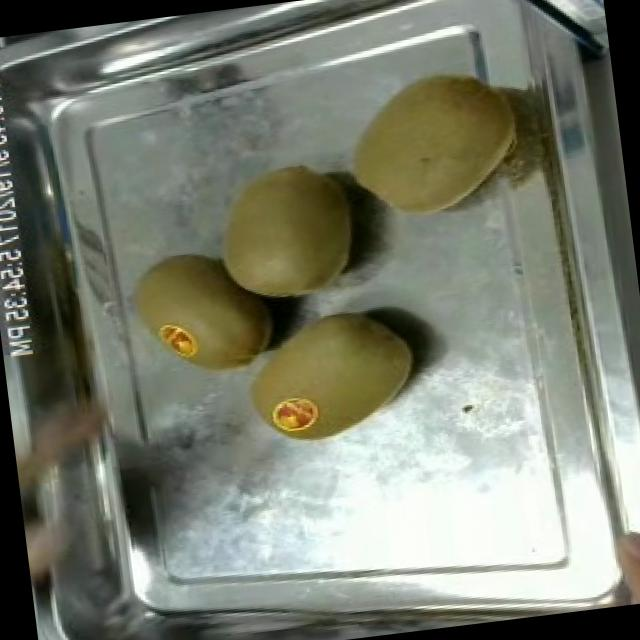Fruit: (328, 54, 536, 236), (238, 294, 430, 453), (198, 146, 370, 314), (119, 236, 287, 394), (592, 519, 640, 608)
